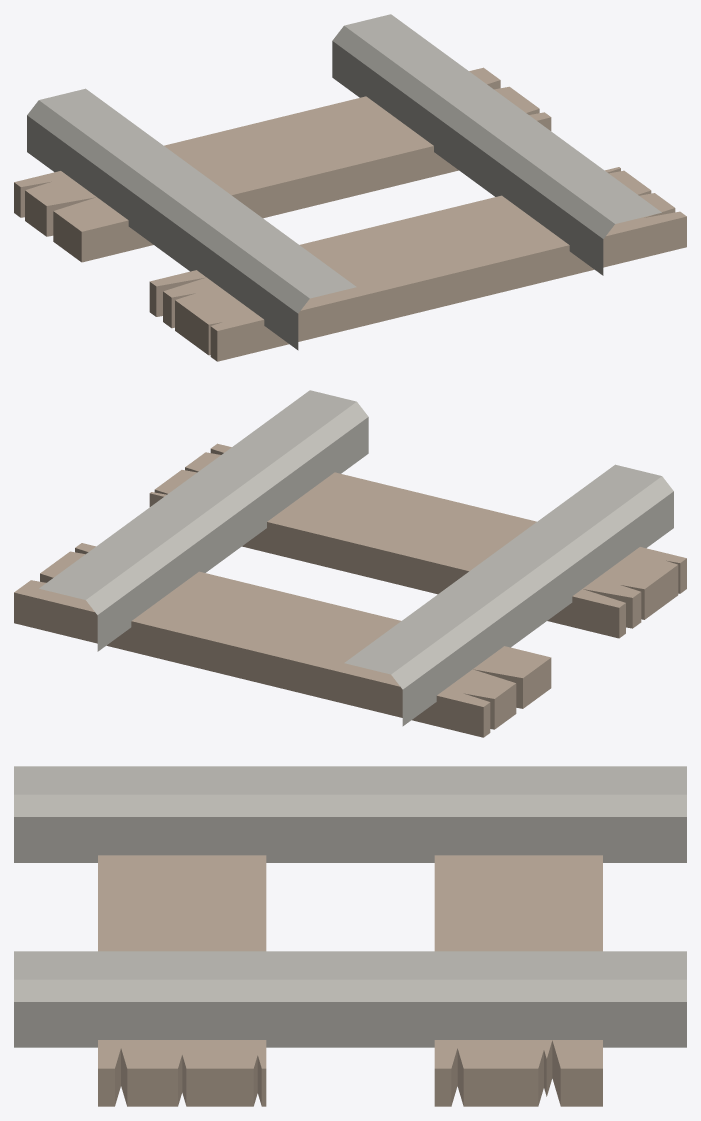
The model's file is Cave_Prop_Railway_Straight_2.glb.
3 views of the same model, one above another, from view 1: azimuth 30°, elevation 25°; view 2: azimuth 150°, elevation 25°; view 3: azimuth 270°, elevation 25° (orthographic). The views are drawn at different scales.
Parts seen in each view (by area): view 1: Cave_Prop_Railway_Straight_2; view 2: Cave_Prop_Railway_Straight_2; view 3: Cave_Prop_Railway_Straight_2.
Part boxes in pixels (x1=…): Cave_Prop_Railway_Straight_2: x1=14, y1=14, x2=686, y2=361; Cave_Prop_Railway_Straight_2: x1=14, y1=390, x2=686, y2=737; Cave_Prop_Railway_Straight_2: x1=14, y1=766, x2=686, y2=1106.
Bounding box in the file's own units: 1 × 0.15 × 1.
